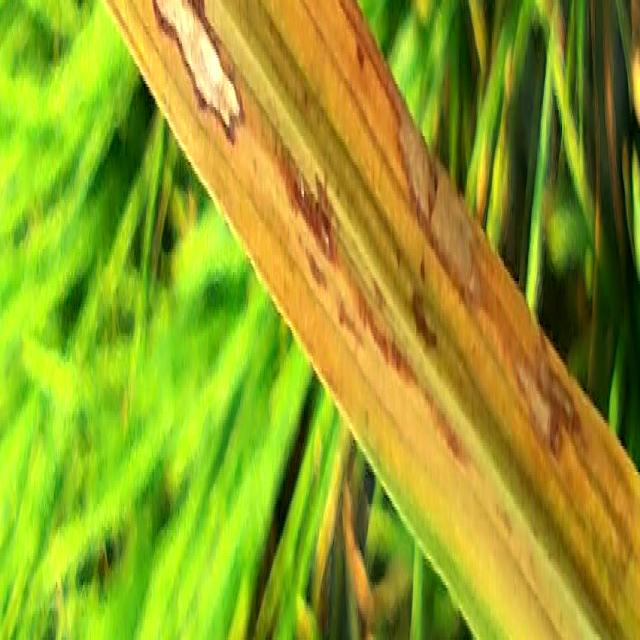LEAF BLAST: (386, 66, 475, 304), (152, 0, 243, 146), (508, 317, 582, 458)
